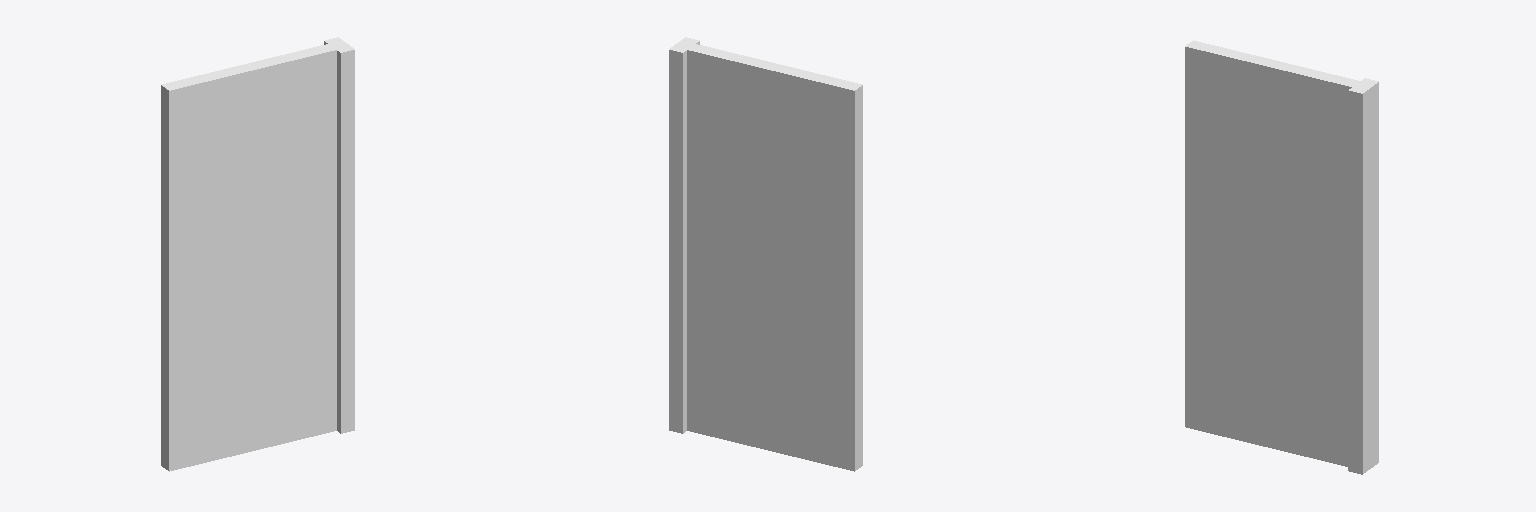
Rendered from door11.obj.
3 views of the same model, side by side, from view 1: azimuth 30°, elevation 25°; view 2: azimuth 150°, elevation 25°; view 3: azimuth 330°, elevation 25° (orthographic).
Visible parts, largest first — view 1: object 1; view 2: object 1; view 3: object 1.
Part boxes in pixels (x1,y1,x2,y2): object 1: (161, 37, 354, 471); object 1: (669, 37, 862, 471); object 1: (1185, 40, 1378, 474).
Size of the model in its own units: 2.5 by 5 by 0.4.